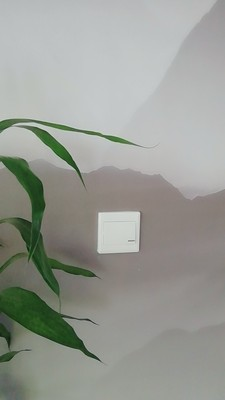switch: (101, 220, 137, 245)
